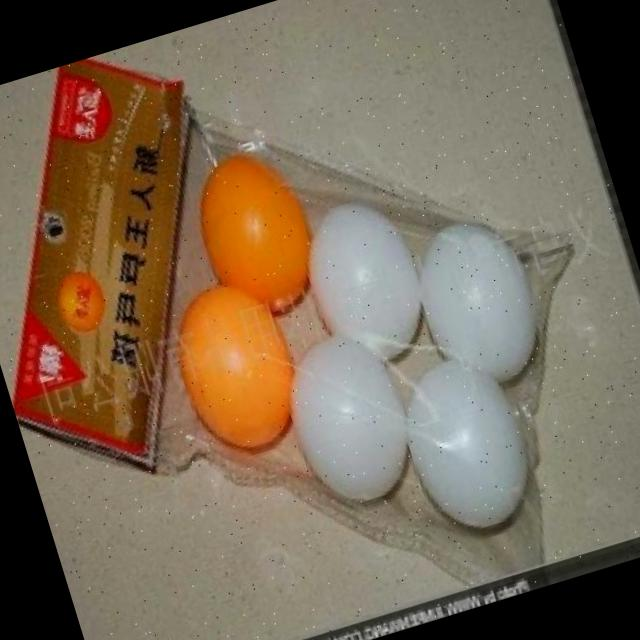ping-pong-ball: (386, 345, 544, 546), (179, 135, 333, 331), (158, 264, 308, 464), (398, 206, 554, 398), (268, 324, 422, 514), (289, 192, 437, 376)
